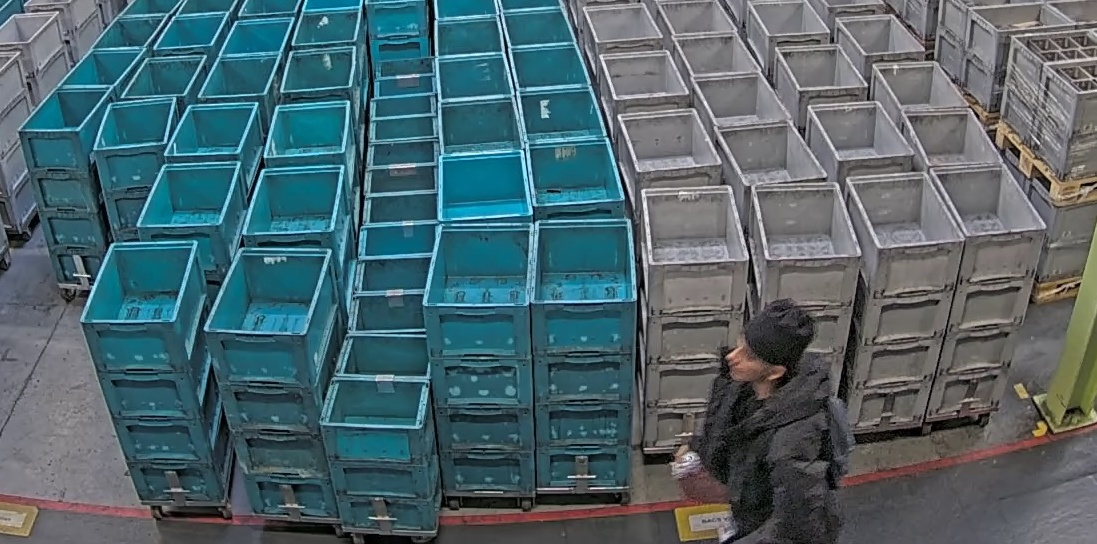4G: (923, 161, 1049, 426), (841, 171, 965, 435), (640, 183, 751, 453), (746, 181, 863, 407)
B4: (78, 239, 234, 503), (203, 246, 339, 523), (419, 221, 536, 500), (528, 219, 639, 492), (92, 96, 177, 241)
B8: (318, 333, 444, 533)
